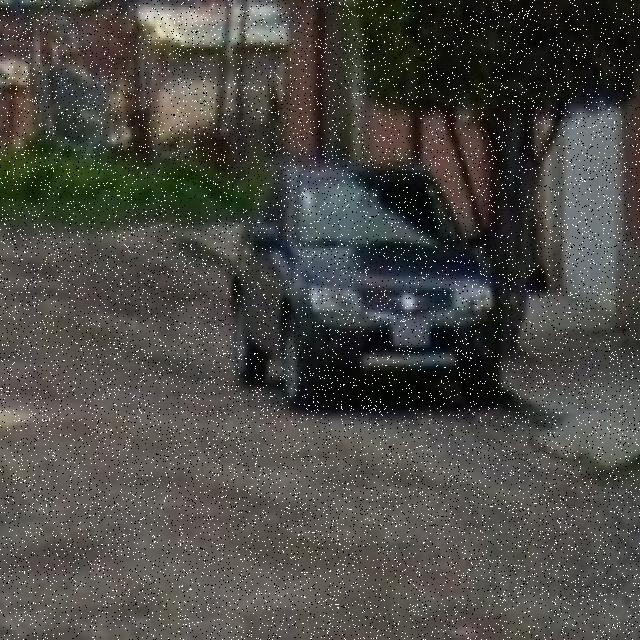cars: (227, 160, 503, 405)
